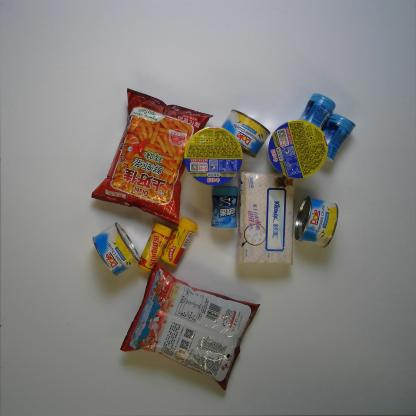Candy: (158, 214, 199, 270), (135, 221, 174, 274)
Canned Food: (90, 218, 142, 277), (219, 107, 271, 161), (292, 194, 341, 250)
Gum: (310, 112, 357, 165), (293, 92, 336, 141), (207, 184, 240, 230)
Instant Noodles: (181, 124, 245, 188), (267, 118, 331, 180)
Puffed Food: (119, 261, 262, 393), (88, 82, 214, 225)
Tissue: (233, 169, 298, 269)
